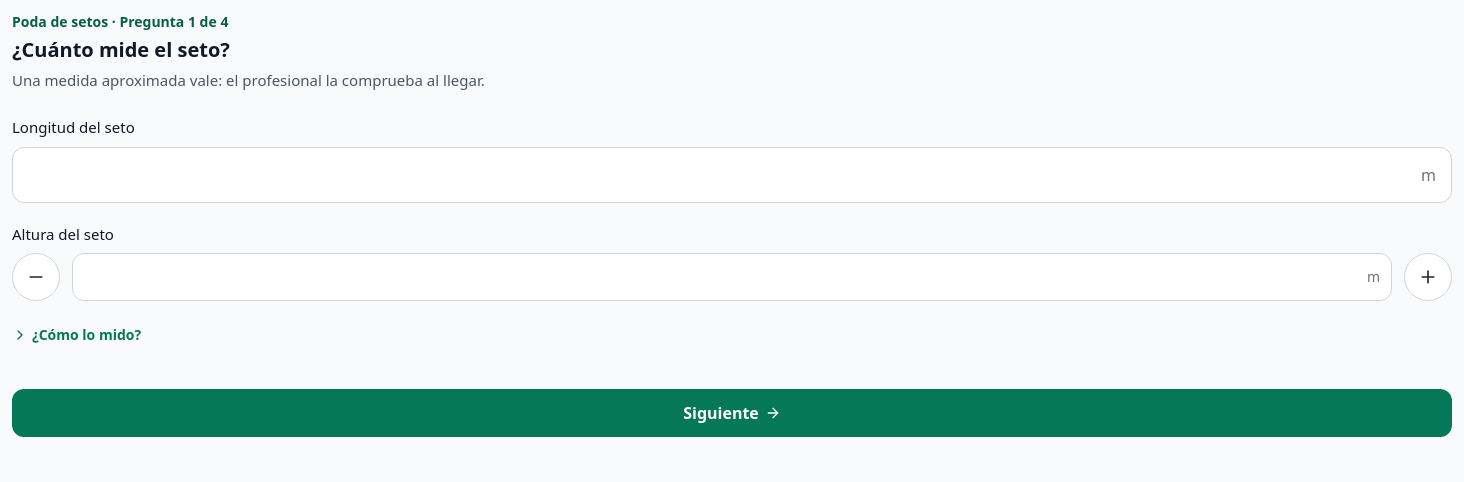
it: setos · tramo de tarifa en vivo › con los botones: 2,0 m queda en el tramo bajo y 2,5 m pasa al medio
The width and height of the screenshot is (1464, 482).
What coordinates should you click on to do the following:
click the button named "Aumentar altura del seto"
I would click on:
 (1428, 277)
Its box is x1=1404 y1=253 x2=1452 y2=301.
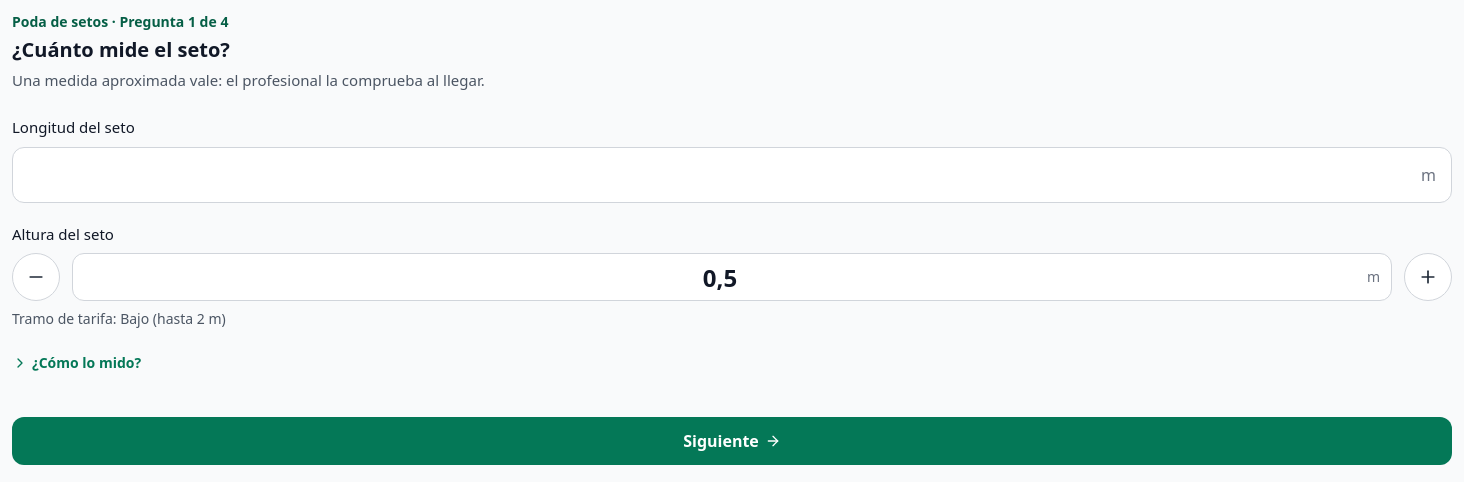
What coordinates should you click on to do the following:
click the button named "Aumentar altura del seto"
I would click on:
 (1428, 277)
Its box is x1=1404 y1=253 x2=1452 y2=301.
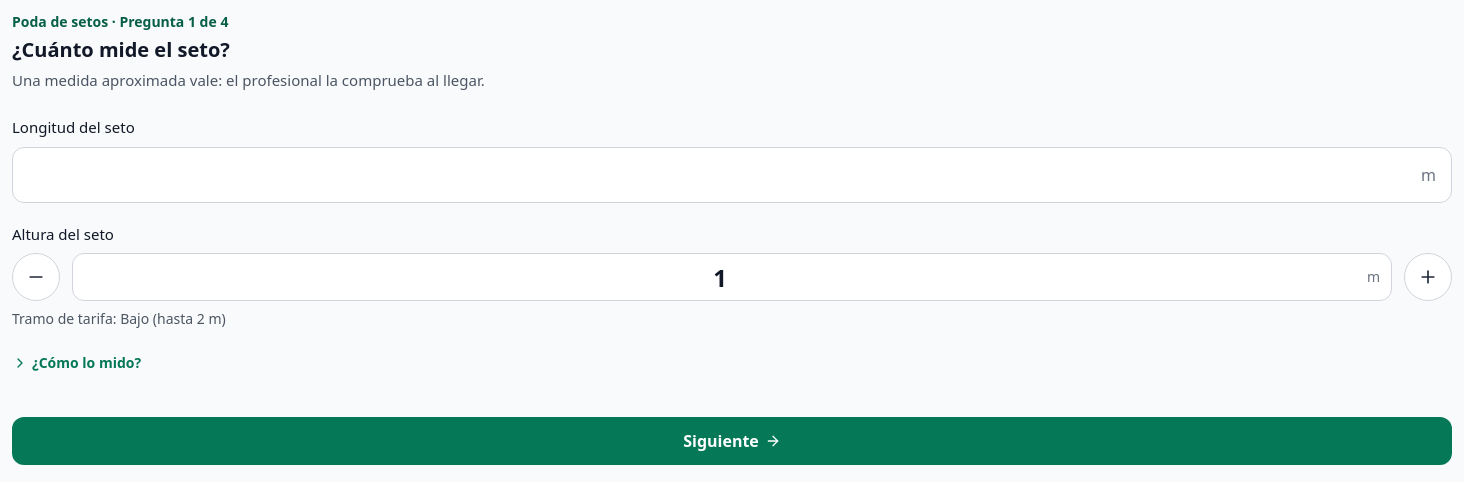
What coordinates should you click on to do the following:
click the button named "Aumentar altura del seto"
I would click on:
 (1428, 277)
Its box is x1=1404 y1=253 x2=1452 y2=301.
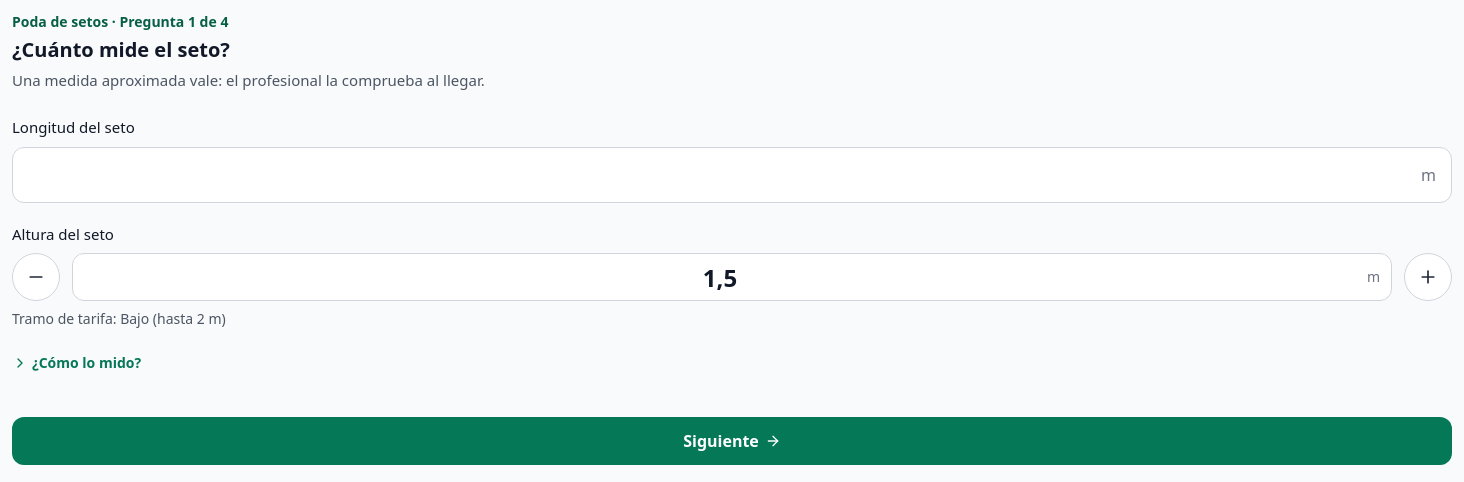
What coordinates should you click on to do the following:
click the button named "Aumentar altura del seto"
I would click on:
 (1428, 277)
Its box is x1=1404 y1=253 x2=1452 y2=301.
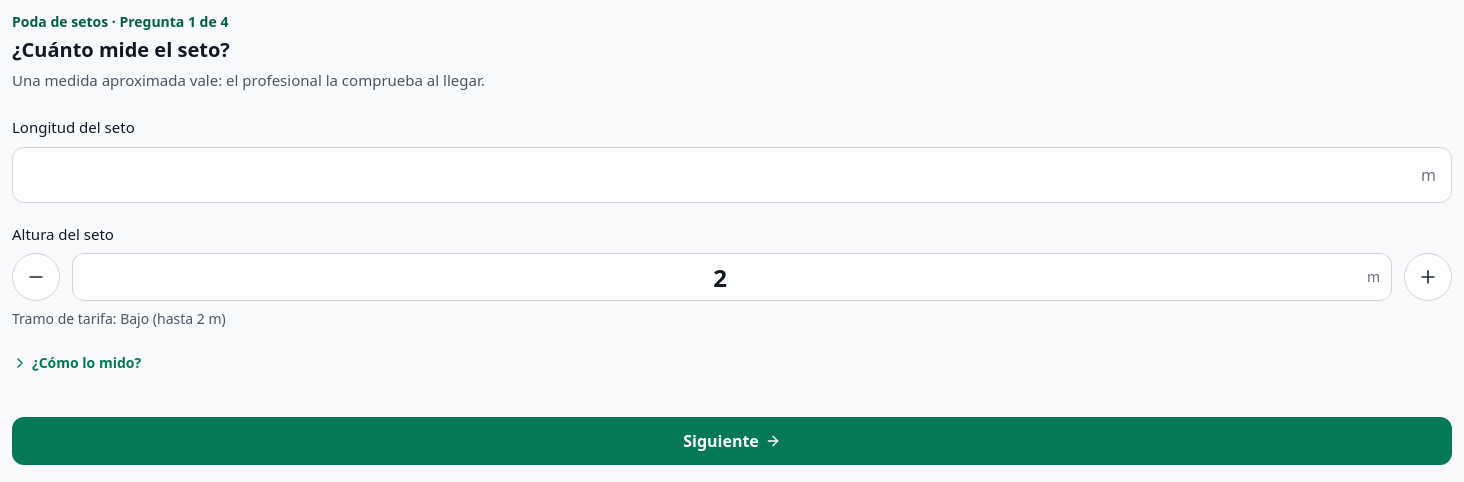
Result: the text "Tramo de tarifa: Bajo (hasta 2 m)" is shown at x1=12 y1=309 x2=226 y2=328
What coordinates should you click on to do the following:
click the button named "Aumentar altura del seto"
I would click on:
 (1428, 277)
Its box is x1=1404 y1=253 x2=1452 y2=301.
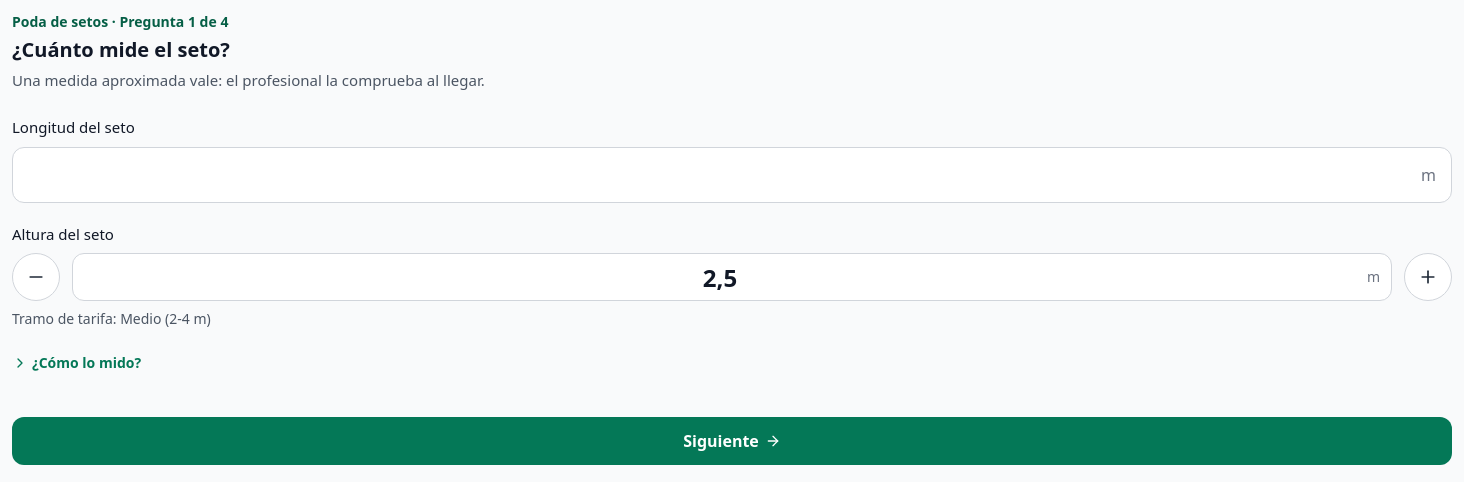
Result: the text "Tramo de tarifa: Medio (2-4 m)" is shown at x1=12 y1=309 x2=211 y2=328
